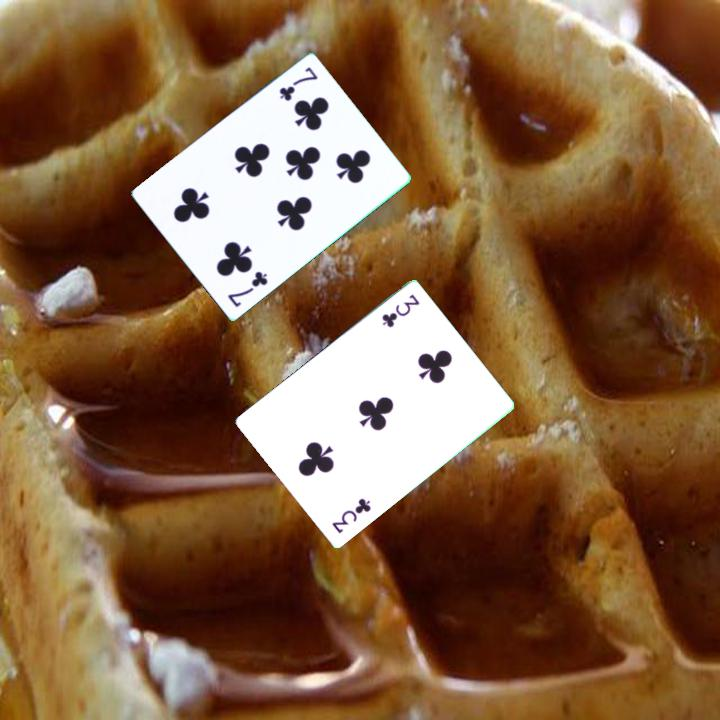3c: (328, 495, 374, 537), (378, 291, 423, 331)
7c: (224, 268, 271, 311), (275, 64, 320, 105)
